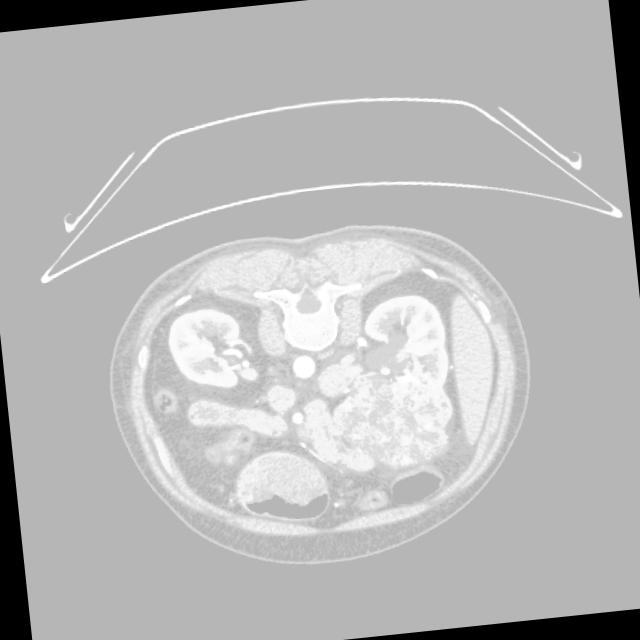TUMOR: (91, 322, 534, 551)
